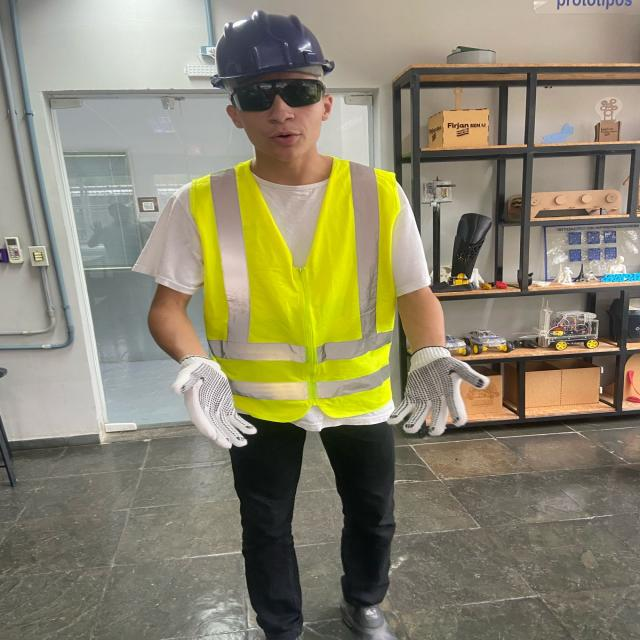BOTA: (335, 595, 412, 640)
CAPACETE: (209, 10, 337, 88)
COLETE: (183, 152, 404, 422)
LUVA: (158, 353, 263, 455), (382, 344, 494, 438)
OCULOS: (224, 75, 337, 115)
